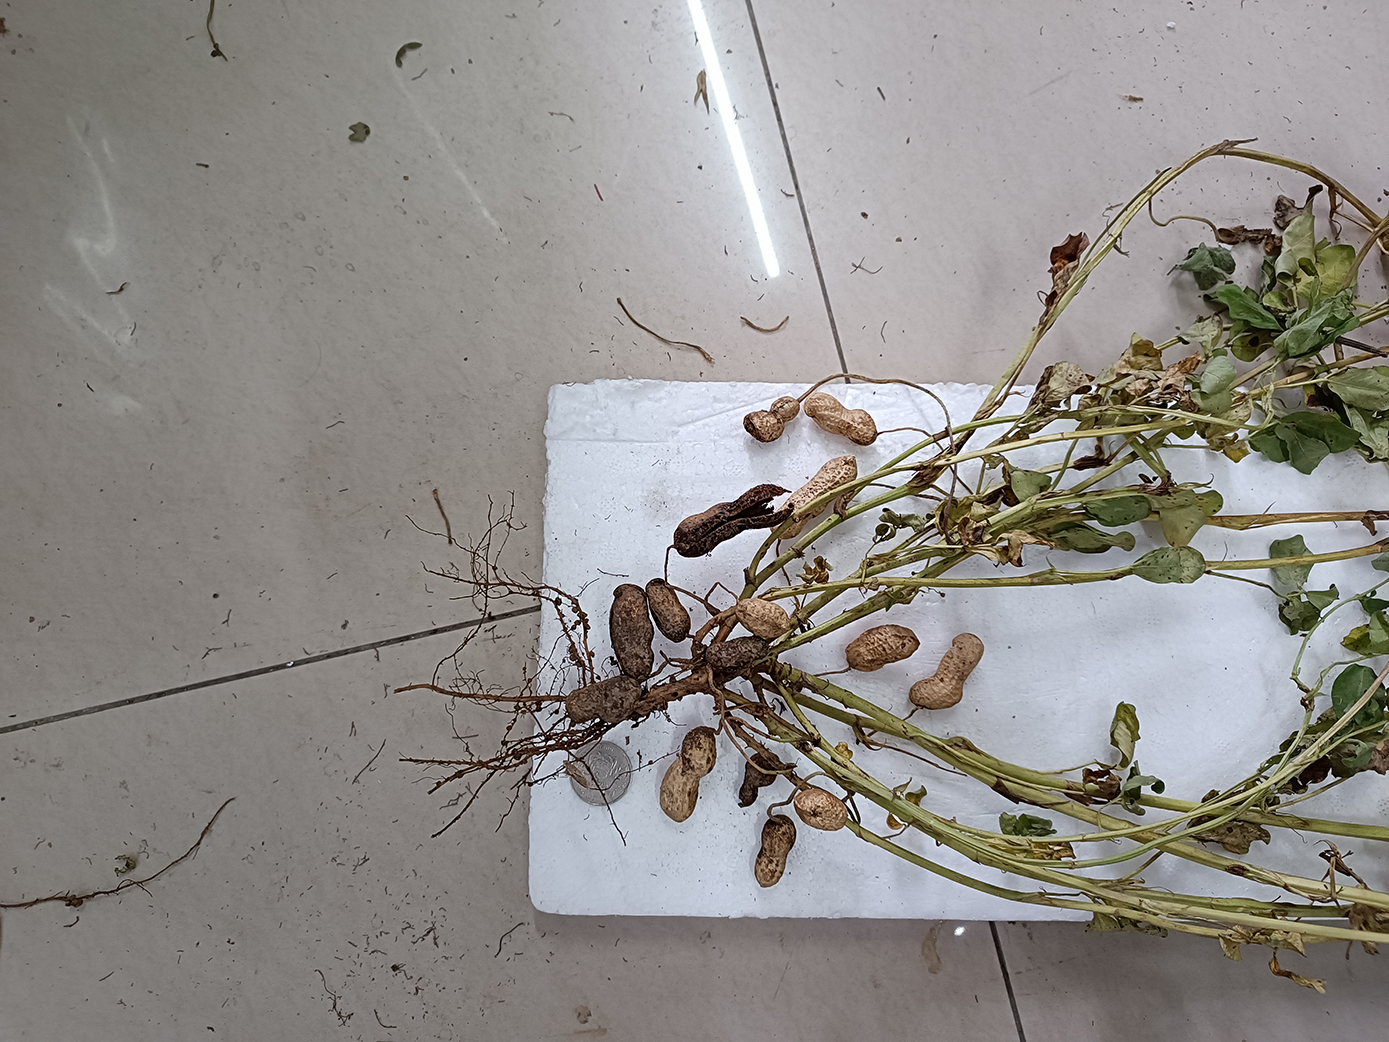h: (771, 456, 858, 539), (908, 632, 985, 710), (659, 723, 717, 823), (803, 391, 877, 445), (846, 623, 921, 671), (742, 395, 801, 441), (792, 791, 849, 832), (736, 598, 788, 638)
l: (673, 483, 794, 557), (609, 583, 653, 680), (755, 817, 796, 889), (646, 578, 691, 642), (566, 678, 635, 718), (739, 752, 776, 807), (706, 636, 766, 667)
